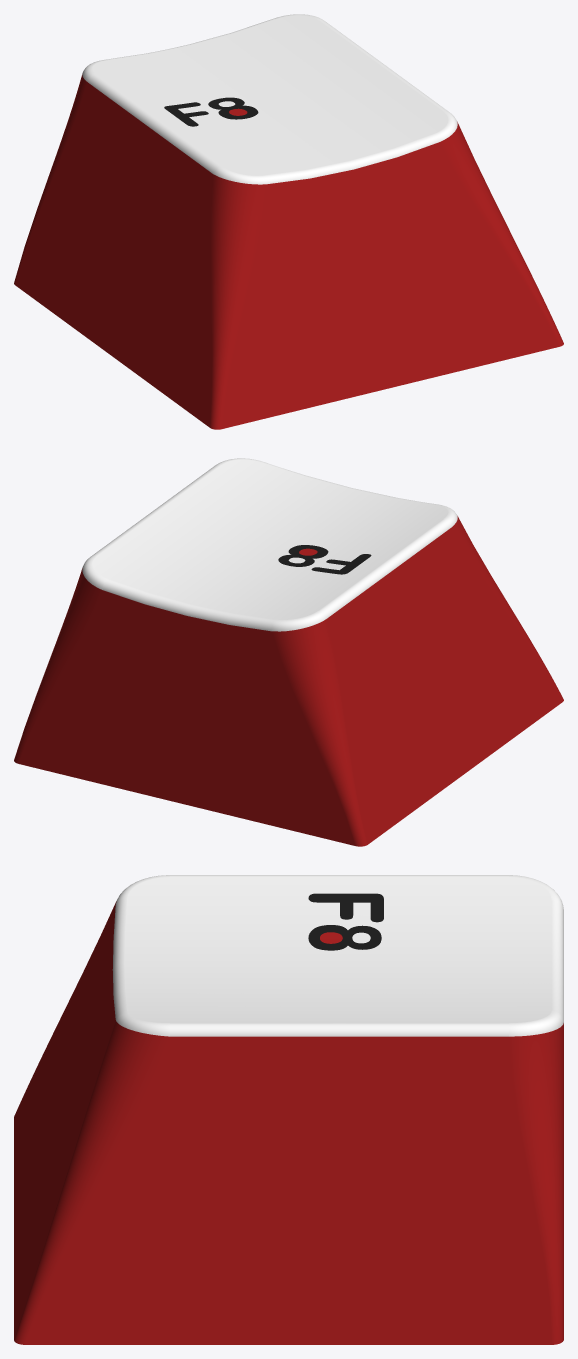
3 views of the same model, one above another, from view 1: azimuth 30°, elevation 25°; view 2: azimuth 150°, elevation 25°; view 3: azimuth 270°, elevation 25° (orthographic). The views are drawn at different scales.
Parts seen in each view (by area): view 1: Body1; view 2: Body1; view 3: Body1.
Boxes of the visible parts, x1,y1,x2,y2 form: Body1: (14,14,563,429); Body1: (14,458,563,846); Body1: (14,875,563,1344).
Size of the model in its own units: 18 by 10.07 by 18.
